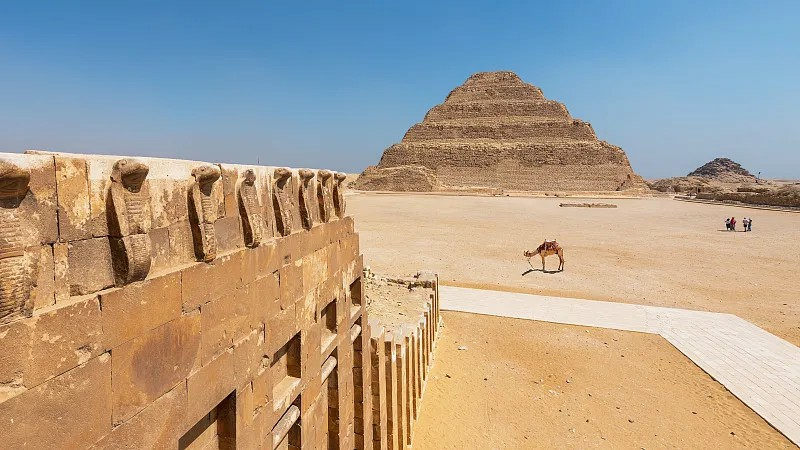Pyramid: (349, 70, 636, 192)
